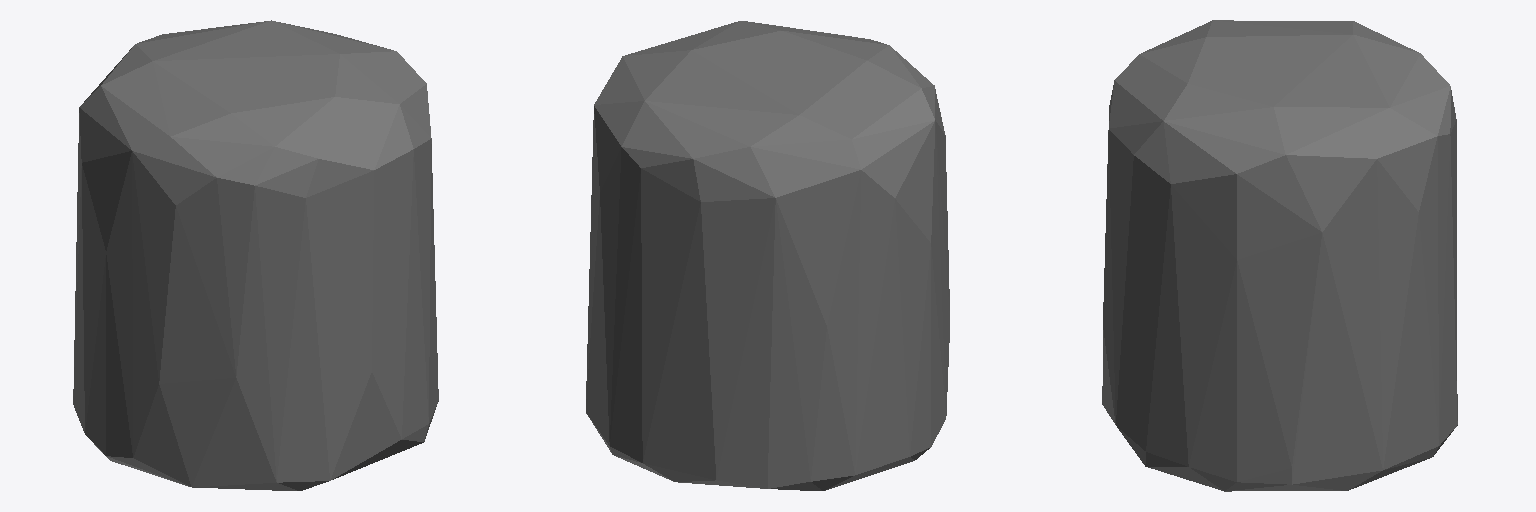
URDF robot description (pot_000):
<?xml version="1.0" ?>
<robot name="pot_000">
  <material name="color">
    <color rgba=".5 .5 .5 1"/>
  </material>

  <link name="base_link">
    <contact>
      <lateral_friction value="1.0"/>
      <rolling_friction value="0.001"/>
      <spinning_friction value="0.001"/>
      <inertia_scaling value="1.0"/>
    </contact>
    <inertial>
      <origin rpy="0 0 0" xyz="-0.00031156 1.04605e-06 0.00430237"/>
       <mass value="0.1"/>
       <inertia ixx="1" ixy="0" ixz="0" iyy="1" iyz="0" izz="1"/>
    </inertial>

    <visual>
      <origin rpy="0 0 0" xyz="0 0 0"/>
      <geometry>
        <mesh filename="pot_000_vhacd_0_of_1.obj" scale="1 1 1"/>
      </geometry>
      <material name="color"/>
    </visual>

    <collision>
      <origin rpy="0 0 0" xyz="0 0 0"/>
      <geometry>
        <mesh filename="pot_000_vhacd_0_of_1.obj" scale="1 1 1"/>
      </geometry>
    </collision>

  </link>
</robot>

--- Render facts (derived) ---
3 views of the same robot in one strip: view 1: azimuth 30°, elevation 25°; view 2: azimuth 150°, elevation 25°; view 3: azimuth 270°, elevation 25° (orthographic).
Model pot_000 with 1 links and 0 joints (none), rooted at base_link, posed every joint at zero.
Links seen in each view (by area): view 1: base_link; view 2: base_link; view 3: base_link.
Boxes of the visible links, x1=… form: base_link: x1=73, y1=20, x2=438, y2=490; base_link: x1=586, y1=21, x2=949, y2=490; base_link: x1=1102, y1=20, x2=1457, y2=491.
Size in the robot's own frame: 0.2045 by 0.1976 by 0.2187 metres.
Meshes: 1 distinct files referenced, 1 mesh visuals loaded (1 OBJ).